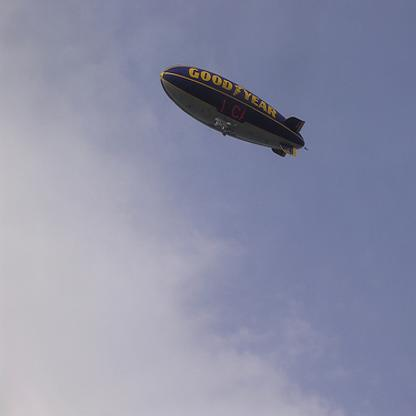Airship: (158, 63, 309, 161)
